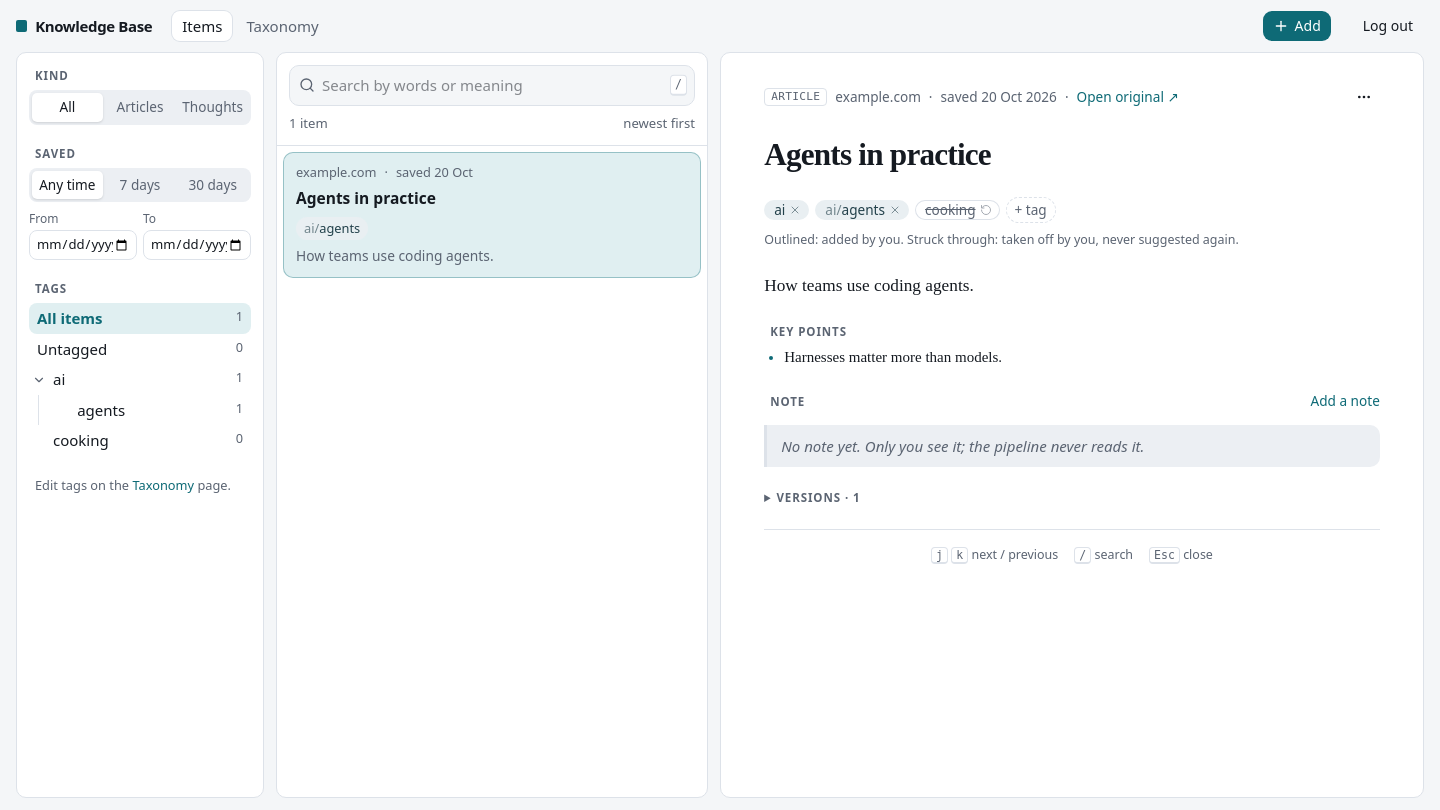
write and save a Note
Expected: the element named "Selected item" is shown, [720,52,1424,798]
Click the button "Add a note" at [1345, 402], box [1310,391,1380,412]
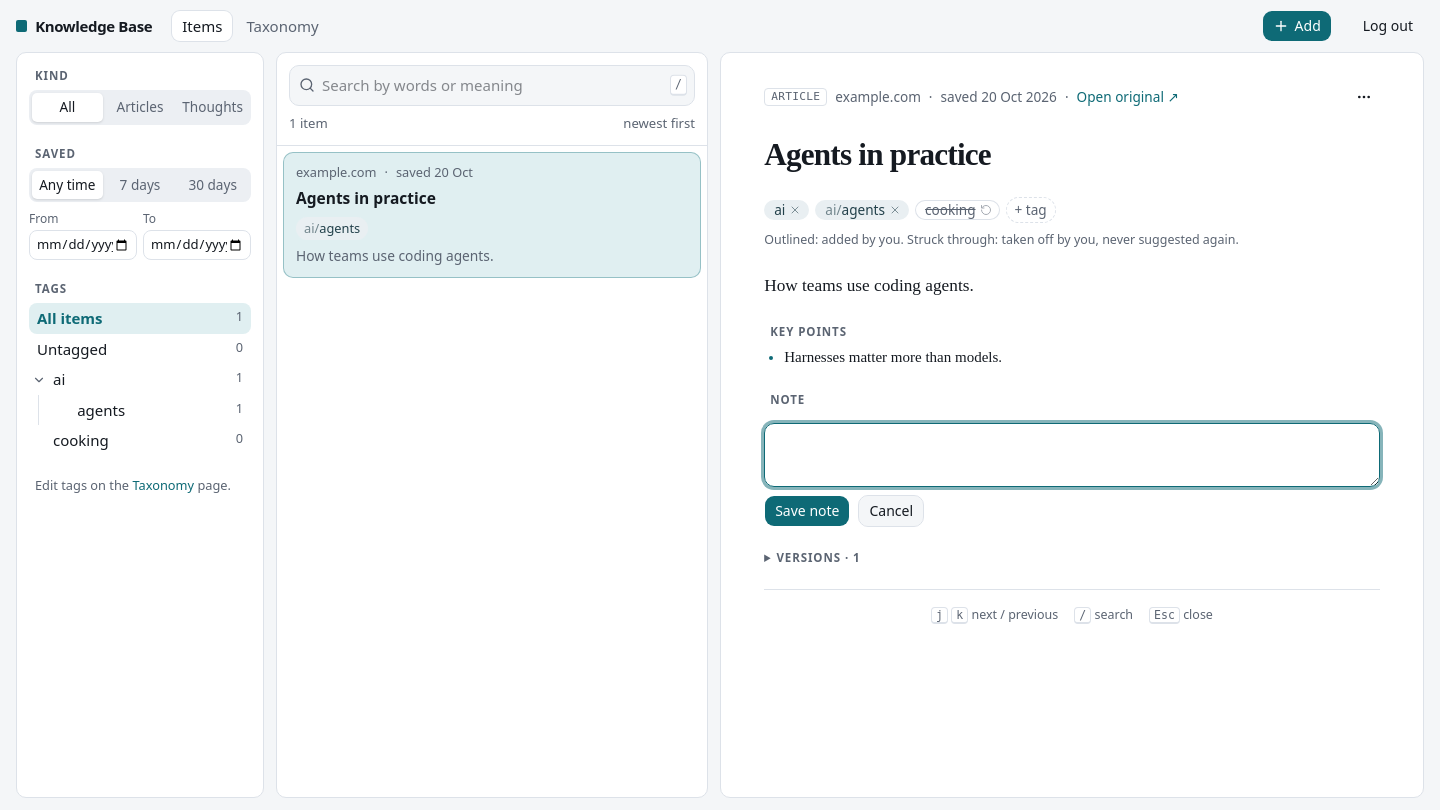
Type "  for the talk " into the text box named "Note" at [1072, 455], box [764,423,1380,487]
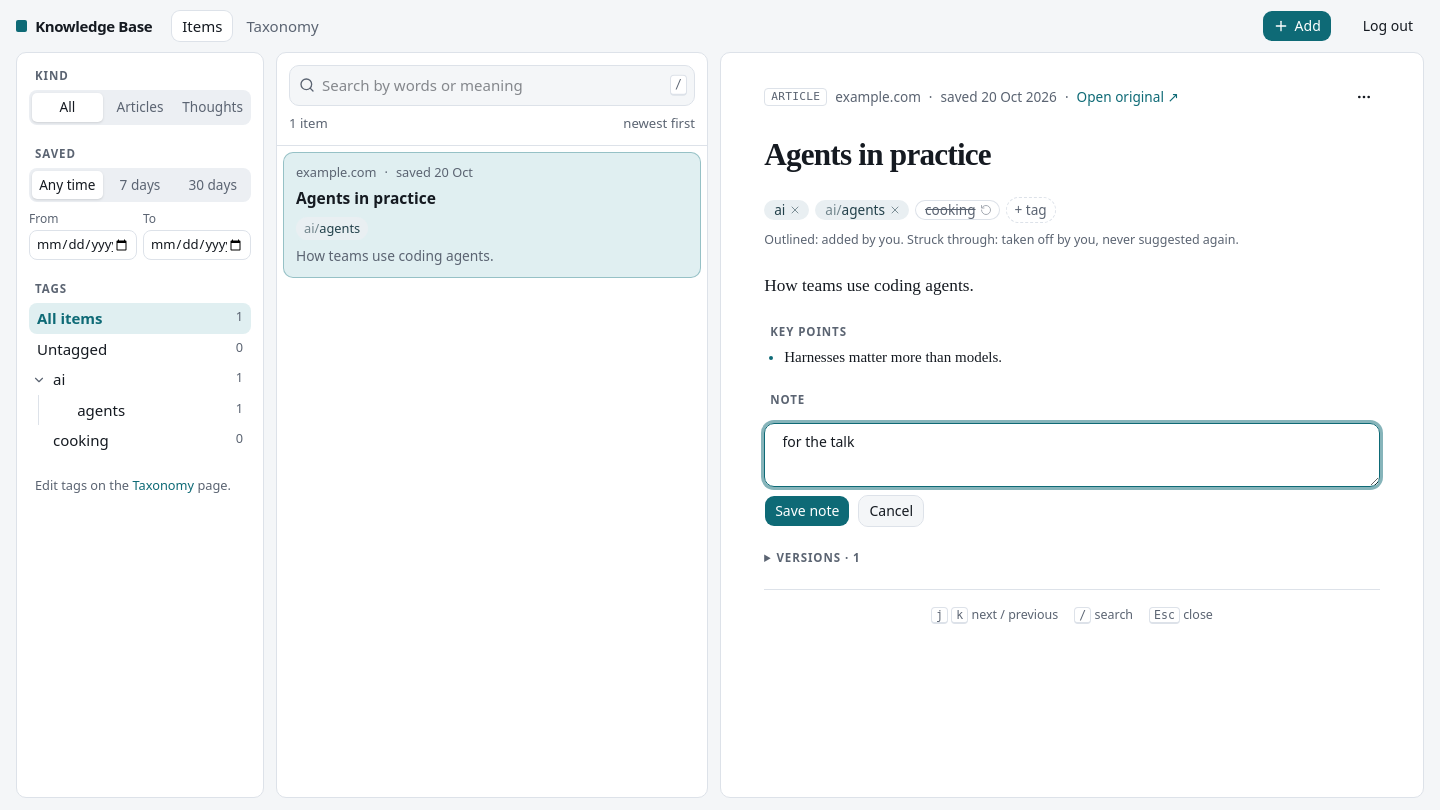
Click the button "Save note" at [807, 511], box [764,495,850,527]
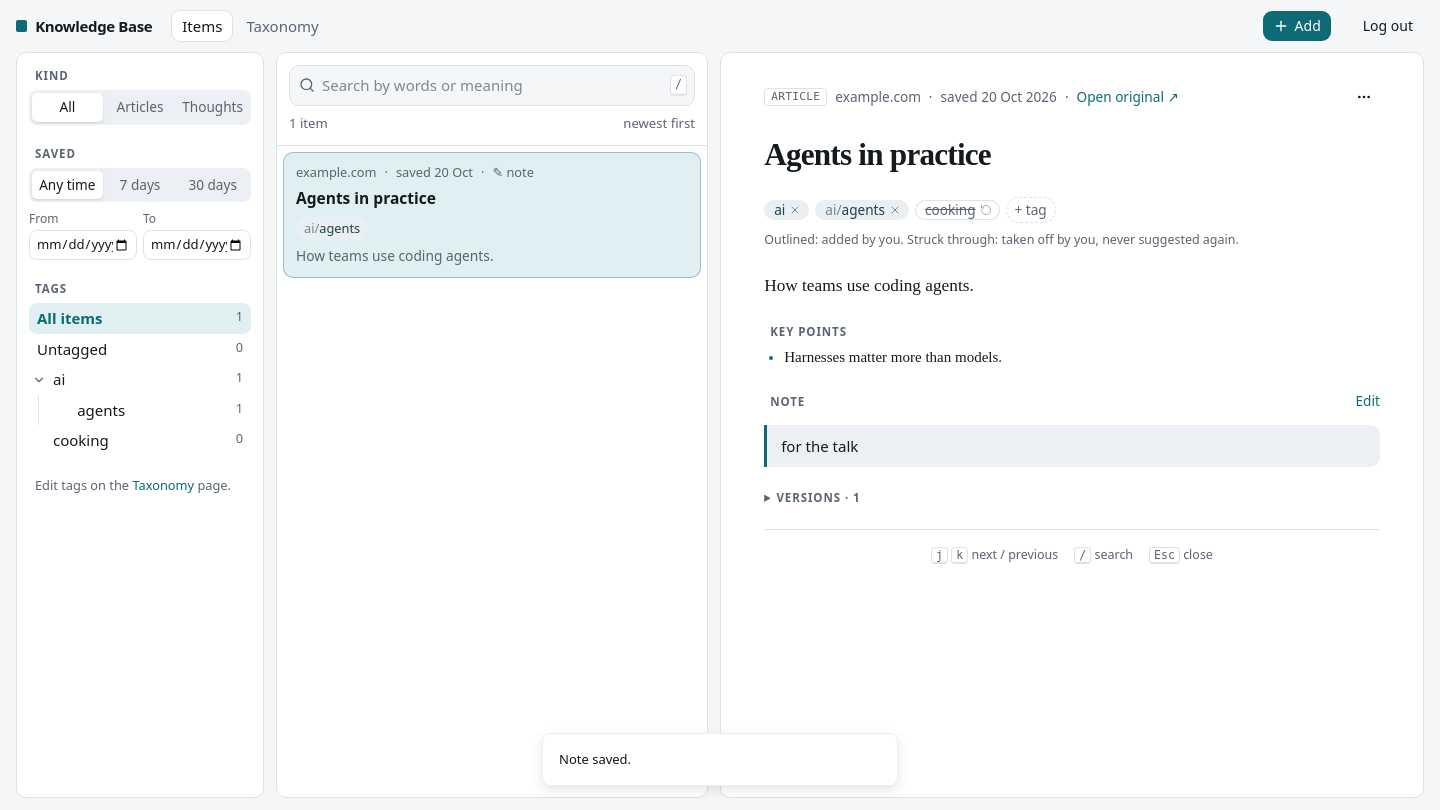
Now the text "for the talk" is shown, box [764,425,1380,467]
Now the button "Edit" is shown, box [1356,391,1380,412]
